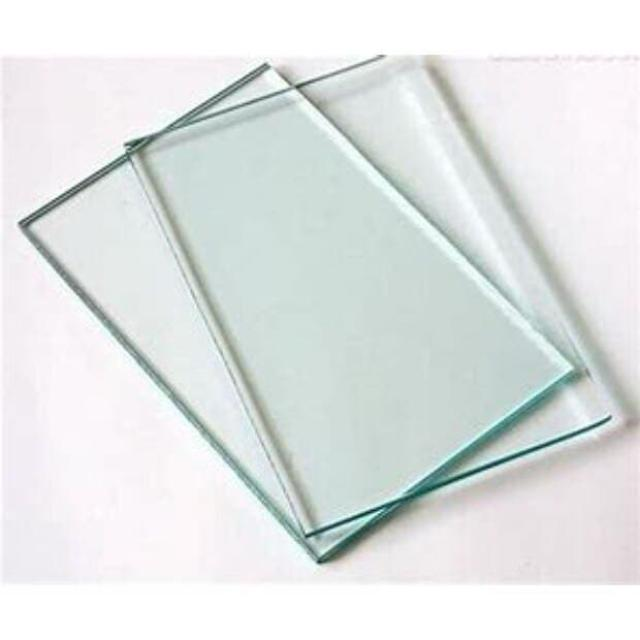glass: (1, 7, 625, 566)
